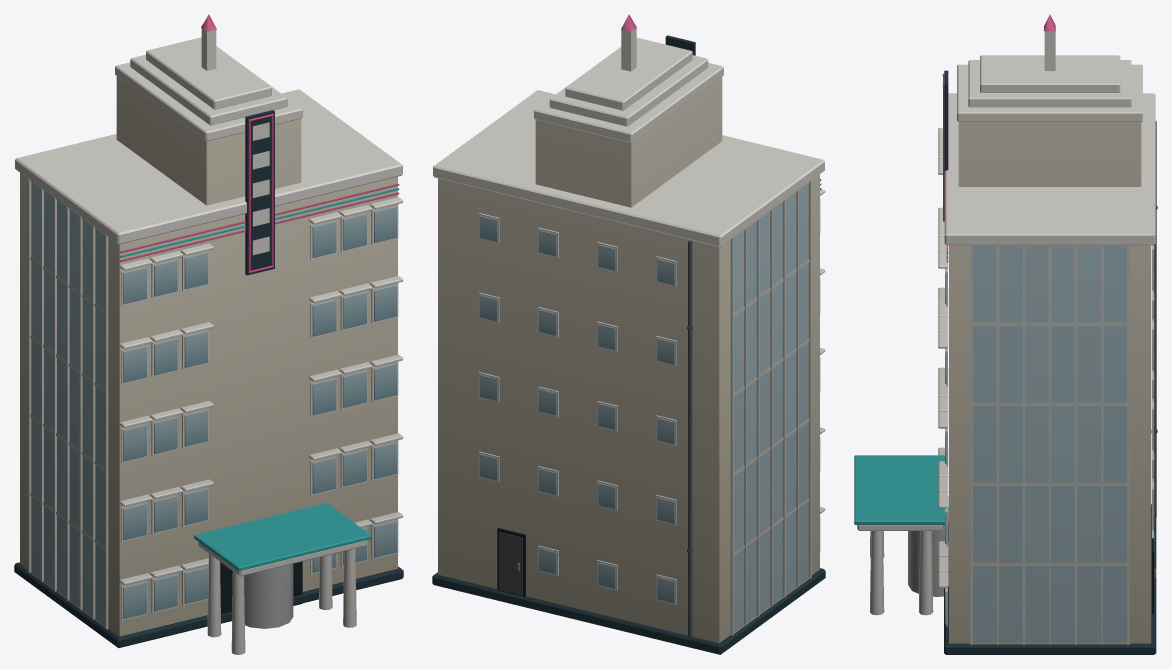
The model's file is grand_deco_hotel.glb.
3 renders of one model, left to right at view 1: azimuth 30°, elevation 25°; view 2: azimuth 150°, elevation 25°; view 3: azimuth 270°, elevation 25°, orthographic.
Parts seen in each view (by area): view 1: grand_deco_hotel; view 2: grand_deco_hotel; view 3: grand_deco_hotel.
Part boxes in pixels (x1,y1,x2,y2): grand_deco_hotel: [14, 14, 403, 654]; grand_deco_hotel: [432, 14, 825, 654]; grand_deco_hotel: [854, 14, 1157, 654].
Bounding box in the file's own units: 10.3 × 19.29 × 9.3.
